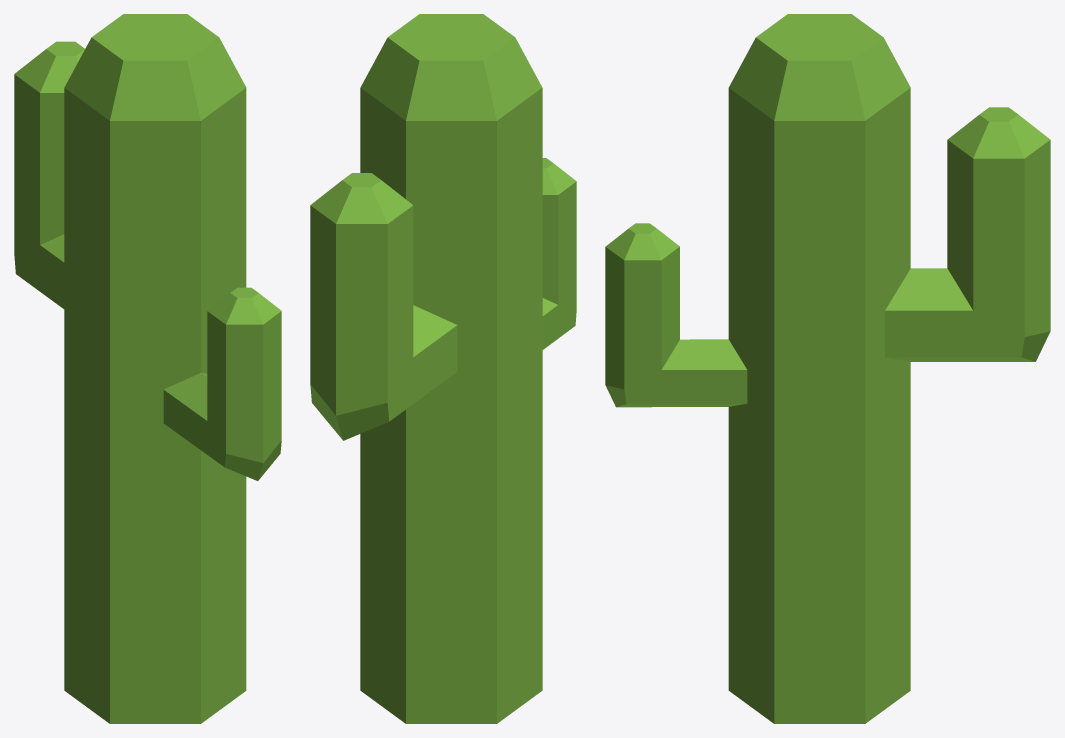
Rendered from cactus.glb.
3 renders of one model, left to right at view 1: azimuth 30°, elevation 25°; view 2: azimuth 150°, elevation 25°; view 3: azimuth 270°, elevation 25°, orthographic.
Parts seen in each view (by area): view 1: main, branch2, branch1; view 2: main, branch1, branch2; view 3: main, branch1, branch2.
Boxes of the visible parts, <box> form: main: <box>64,14,246,723</box>; branch2: <box>163,287,281,480</box>; branch1: <box>14,41,84,308</box>; main: <box>360,14,542,723</box>; branch1: <box>310,173,457,440</box>; branch2: <box>542,158,576,349</box>; main: <box>728,14,910,723</box>; branch1: <box>885,107,1050,361</box>; branch2: <box>605,223,747,407</box>.
Size of the model in its own units: 1.73 by 7.92 by 4.89.
